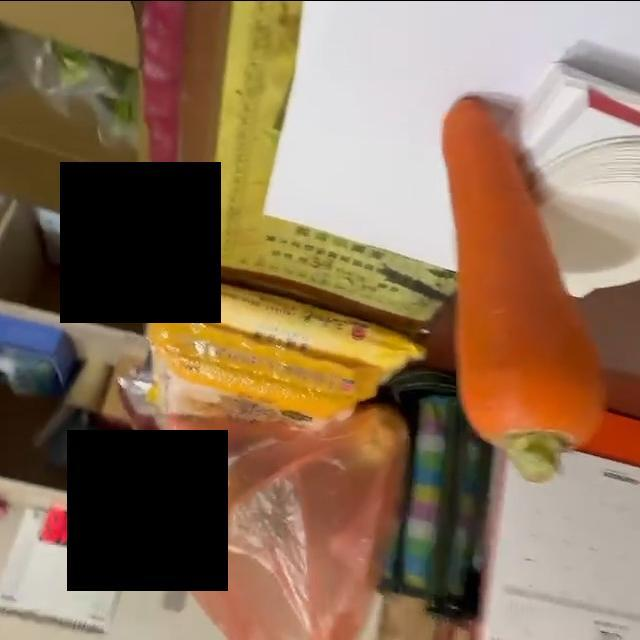carrot: (436, 97, 604, 477)
